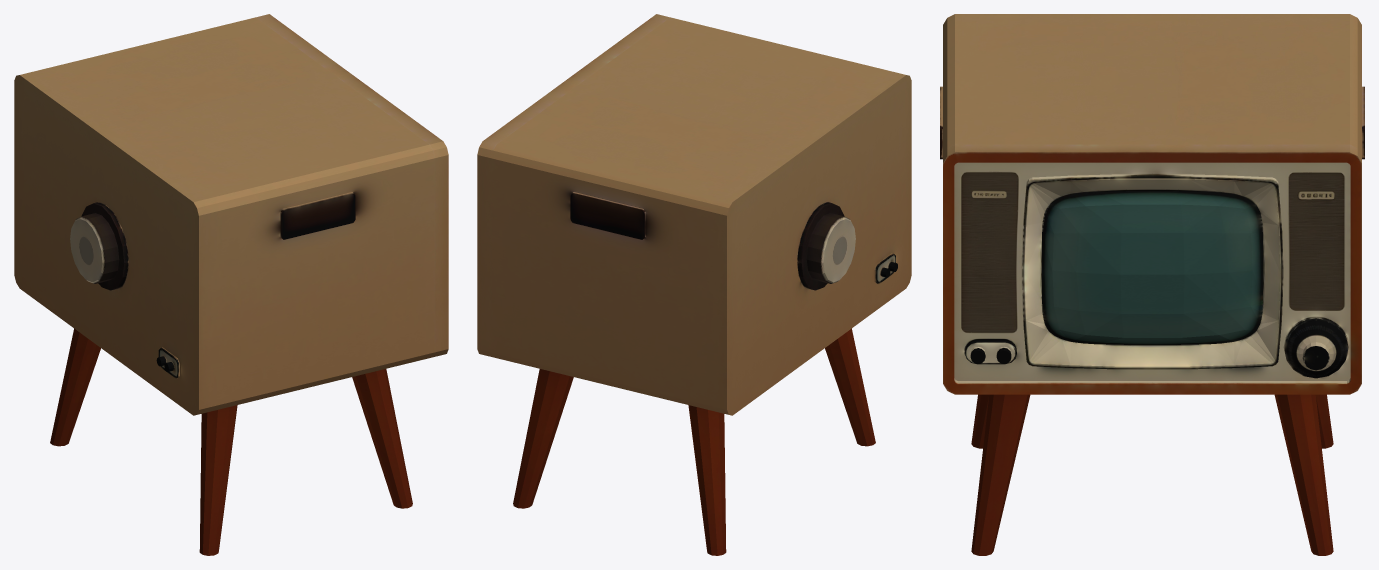
The model's file is tvretro.glb.
3 views of the same model, side by side, from view 1: azimuth 30°, elevation 25°; view 2: azimuth 150°, elevation 25°; view 3: azimuth 270°, elevation 25° (orthographic). The views are drawn at different scales.
Parts seen in each view (by area): view 1: Box_low__mReBody; view 2: Box_low__mReBody; view 3: Box_low__mReBody, TVscreen_low__mTv.
Boxes of the visible parts, left/top/right/bottom form: Box_low__mReBody: left=14, top=14, right=448, bottom=555; Box_low__mReBody: left=477, top=14, right=911, bottom=555; Box_low__mReBody: left=940, top=14, right=1364, bottom=555; TVscreen_low__mTv: left=1042, top=191, right=1262, bottom=344.
Bounding box in the file's own units: 0.8127 × 1 × 0.9288.
Materials: 2 (2 with a texture image).
